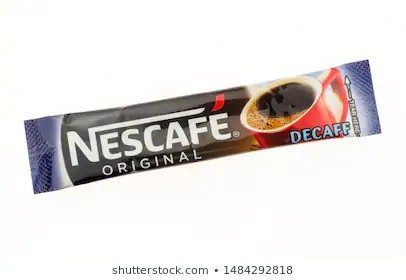nescafe-caffe: (21, 60, 389, 200)
